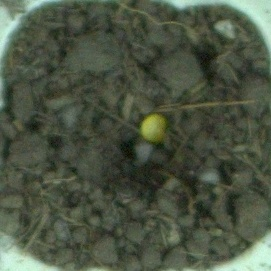chilli seed: (139, 113, 168, 143)
